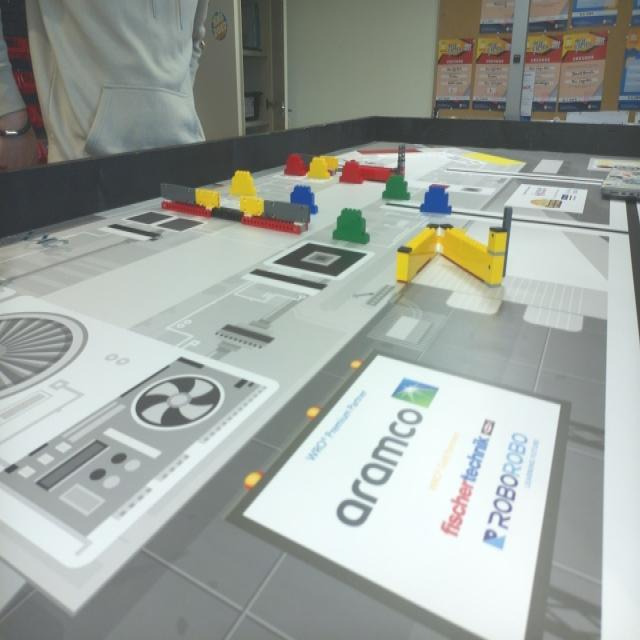blau: (420, 185, 452, 217), (288, 185, 318, 212)
gruen: (333, 209, 371, 244), (382, 176, 411, 202)
rot: (342, 162, 362, 184), (286, 157, 304, 177)
yellow: (231, 172, 255, 196), (308, 158, 328, 178)
